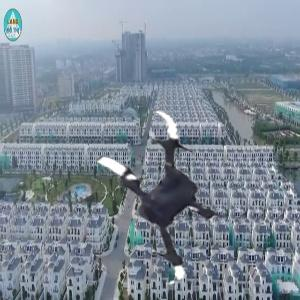drone: (64, 106, 243, 285)
